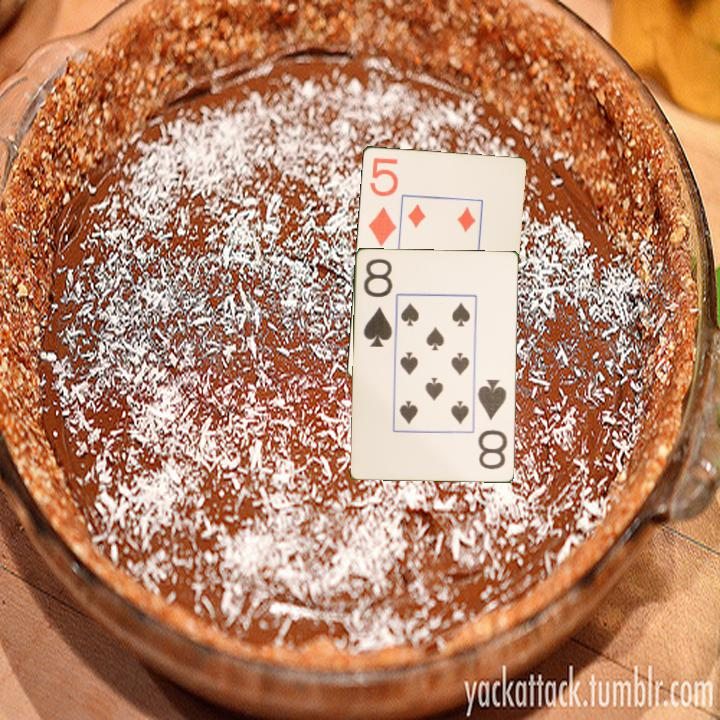5d: (364, 154, 401, 249)
8s: (360, 255, 396, 350), (475, 376, 510, 472)
